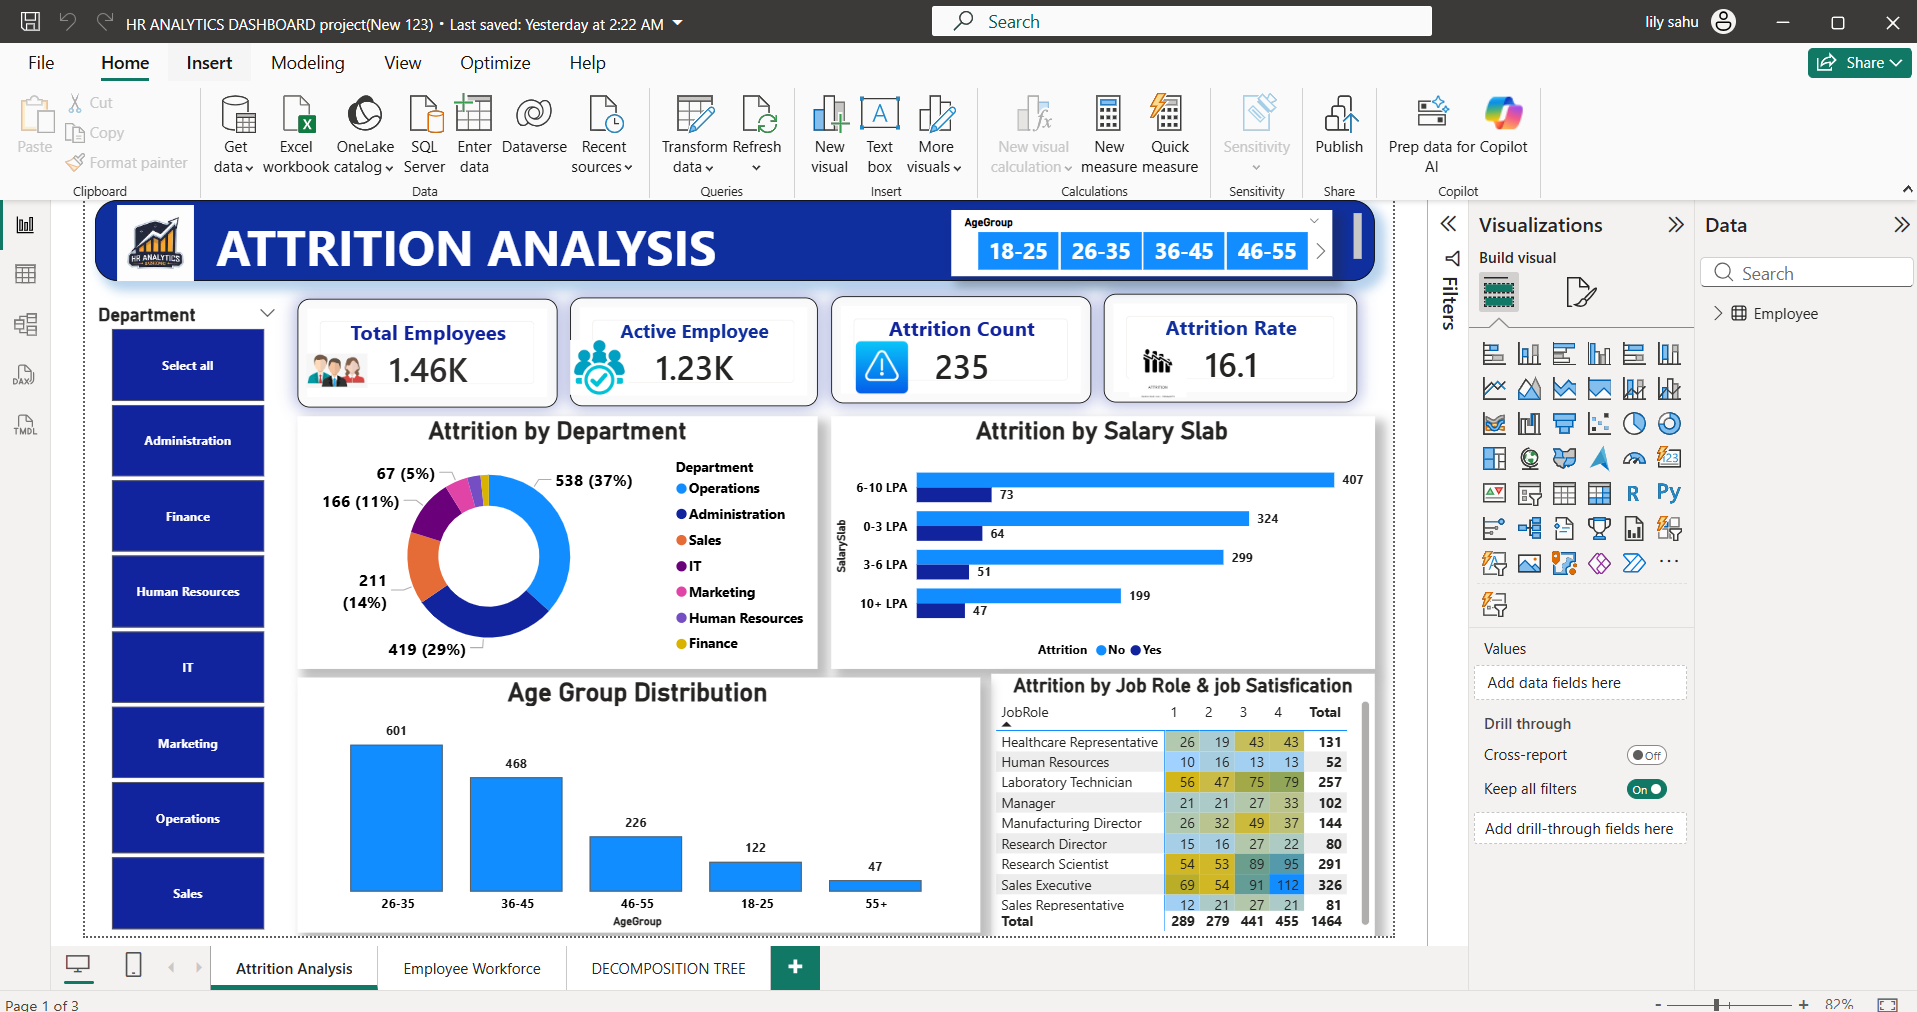

What the dashboard file says about the page in this screenshot:
{"tool":"powerbi","page":{"name":"Attrition Analysis","canvas":[1280,720],"ordinal":0},"visuals":[{"type":"textbox","box":[9.8,0,1252.2,79.5],"z":0},{"type":"cardVisual","fields":{"Data":["Employee.Total Employees"]},"box":[207.9,96.6,254.3,106.4],"z":1000},{"type":"cardVisual","fields":{"Data":["Employee.Active Employee"]},"box":[474.5,95.4,242.1,106.4],"z":2000},{"type":"cardVisual","fields":{"Data":["Employee.Attrition Count"]},"box":[730,94.2,254.3,105.2],"z":3000},{"type":"cardVisual","fields":{"Data":["Employee.Attrition Rate"]},"box":[996.6,91.7,248.2,106.4],"z":4000},{"type":"donutChart","title":"Attrition by Department","fields":{"Category":["Employee.Department"],"Y":["CountNonNull(Employee.Attrition)"]},"box":[207.9,211.6,508.7,247],"z":7000},{"type":"clusteredBarChart","title":"Attrition by Salary Slab","fields":{"Category":["Employee.SalarySlab"],"Y":["CountNonNull(Employee.EmpID)"],"Series":["Employee.Attrition"]},"box":[730,211.6,531.9,247],"z":8000},{"type":"pivotTable","title":"Attrition by Job Role & job Satisfication","fields":{"Rows":["Employee.JobRole"],"Columns":["Employee.JobSatisfaction"],"Values":["Employee.Total Employees"]},"box":[886.6,463.5,375.4,256.8],"z":9000},{"type":"columnChart","title":"Age Group Distribution","fields":{"Category":["Employee.AgeGroup"],"Y":["CountNonNull(Employee.EmpID)"]},"box":[207.9,467.1,667.7,249.5],"z":10000},{"type":"slicer","title":"Department","fields":{"Values":["Employee.Department"]},"box":[0,96.6,199.3,623.6],"z":14000},{"type":"slicer","fields":{"Values":["Employee.AgeGroup"]},"box":[846.9,9.7,372.8,65.1],"z":15000},{"type":"image","box":[748.4,135.7,62.4,56.3],"z":16000},{"type":"image","box":[216.4,140.6,59.9,52.6],"z":18000},{"type":"image","box":[474.5,137,57.5,53.8],"z":20000},{"type":"image","box":[1006.4,137,86.8,56.3],"z":21000},{"type":"image","box":[9.7,4.8,118.2,74.8],"z":22000}]}

Visuals, with their boxes on the page's 1280x720 design canvas (x1, y1, x2, y2). These are canvas units, not pixel positions in the 1917x1012 screenshot, which may show the page scaled, cropped or inside an application window:
textbox: Rect(10, 0, 1262, 80)
cardVisual - Employee.Total Employees: Rect(208, 97, 462, 203)
cardVisual - Employee.Active Employee: Rect(474, 95, 717, 202)
cardVisual - Employee.Attrition Count: Rect(730, 94, 984, 199)
cardVisual - Employee.Attrition Rate: Rect(997, 92, 1245, 198)
"Attrition by Department" donutChart: Rect(208, 212, 717, 459)
"Attrition by Salary Slab" clusteredBarChart: Rect(730, 212, 1262, 459)
"Attrition by Job Role & job Satisfication" pivotTable: Rect(887, 464, 1262, 720)
"Age Group Distribution" columnChart: Rect(208, 467, 876, 717)
"Department" slicer: Rect(0, 97, 199, 720)
slicer - Employee.AgeGroup: Rect(847, 10, 1220, 75)
image: Rect(748, 136, 811, 192)
image: Rect(216, 141, 276, 193)
image: Rect(474, 137, 532, 191)
image: Rect(1006, 137, 1093, 193)
image: Rect(10, 5, 128, 80)
